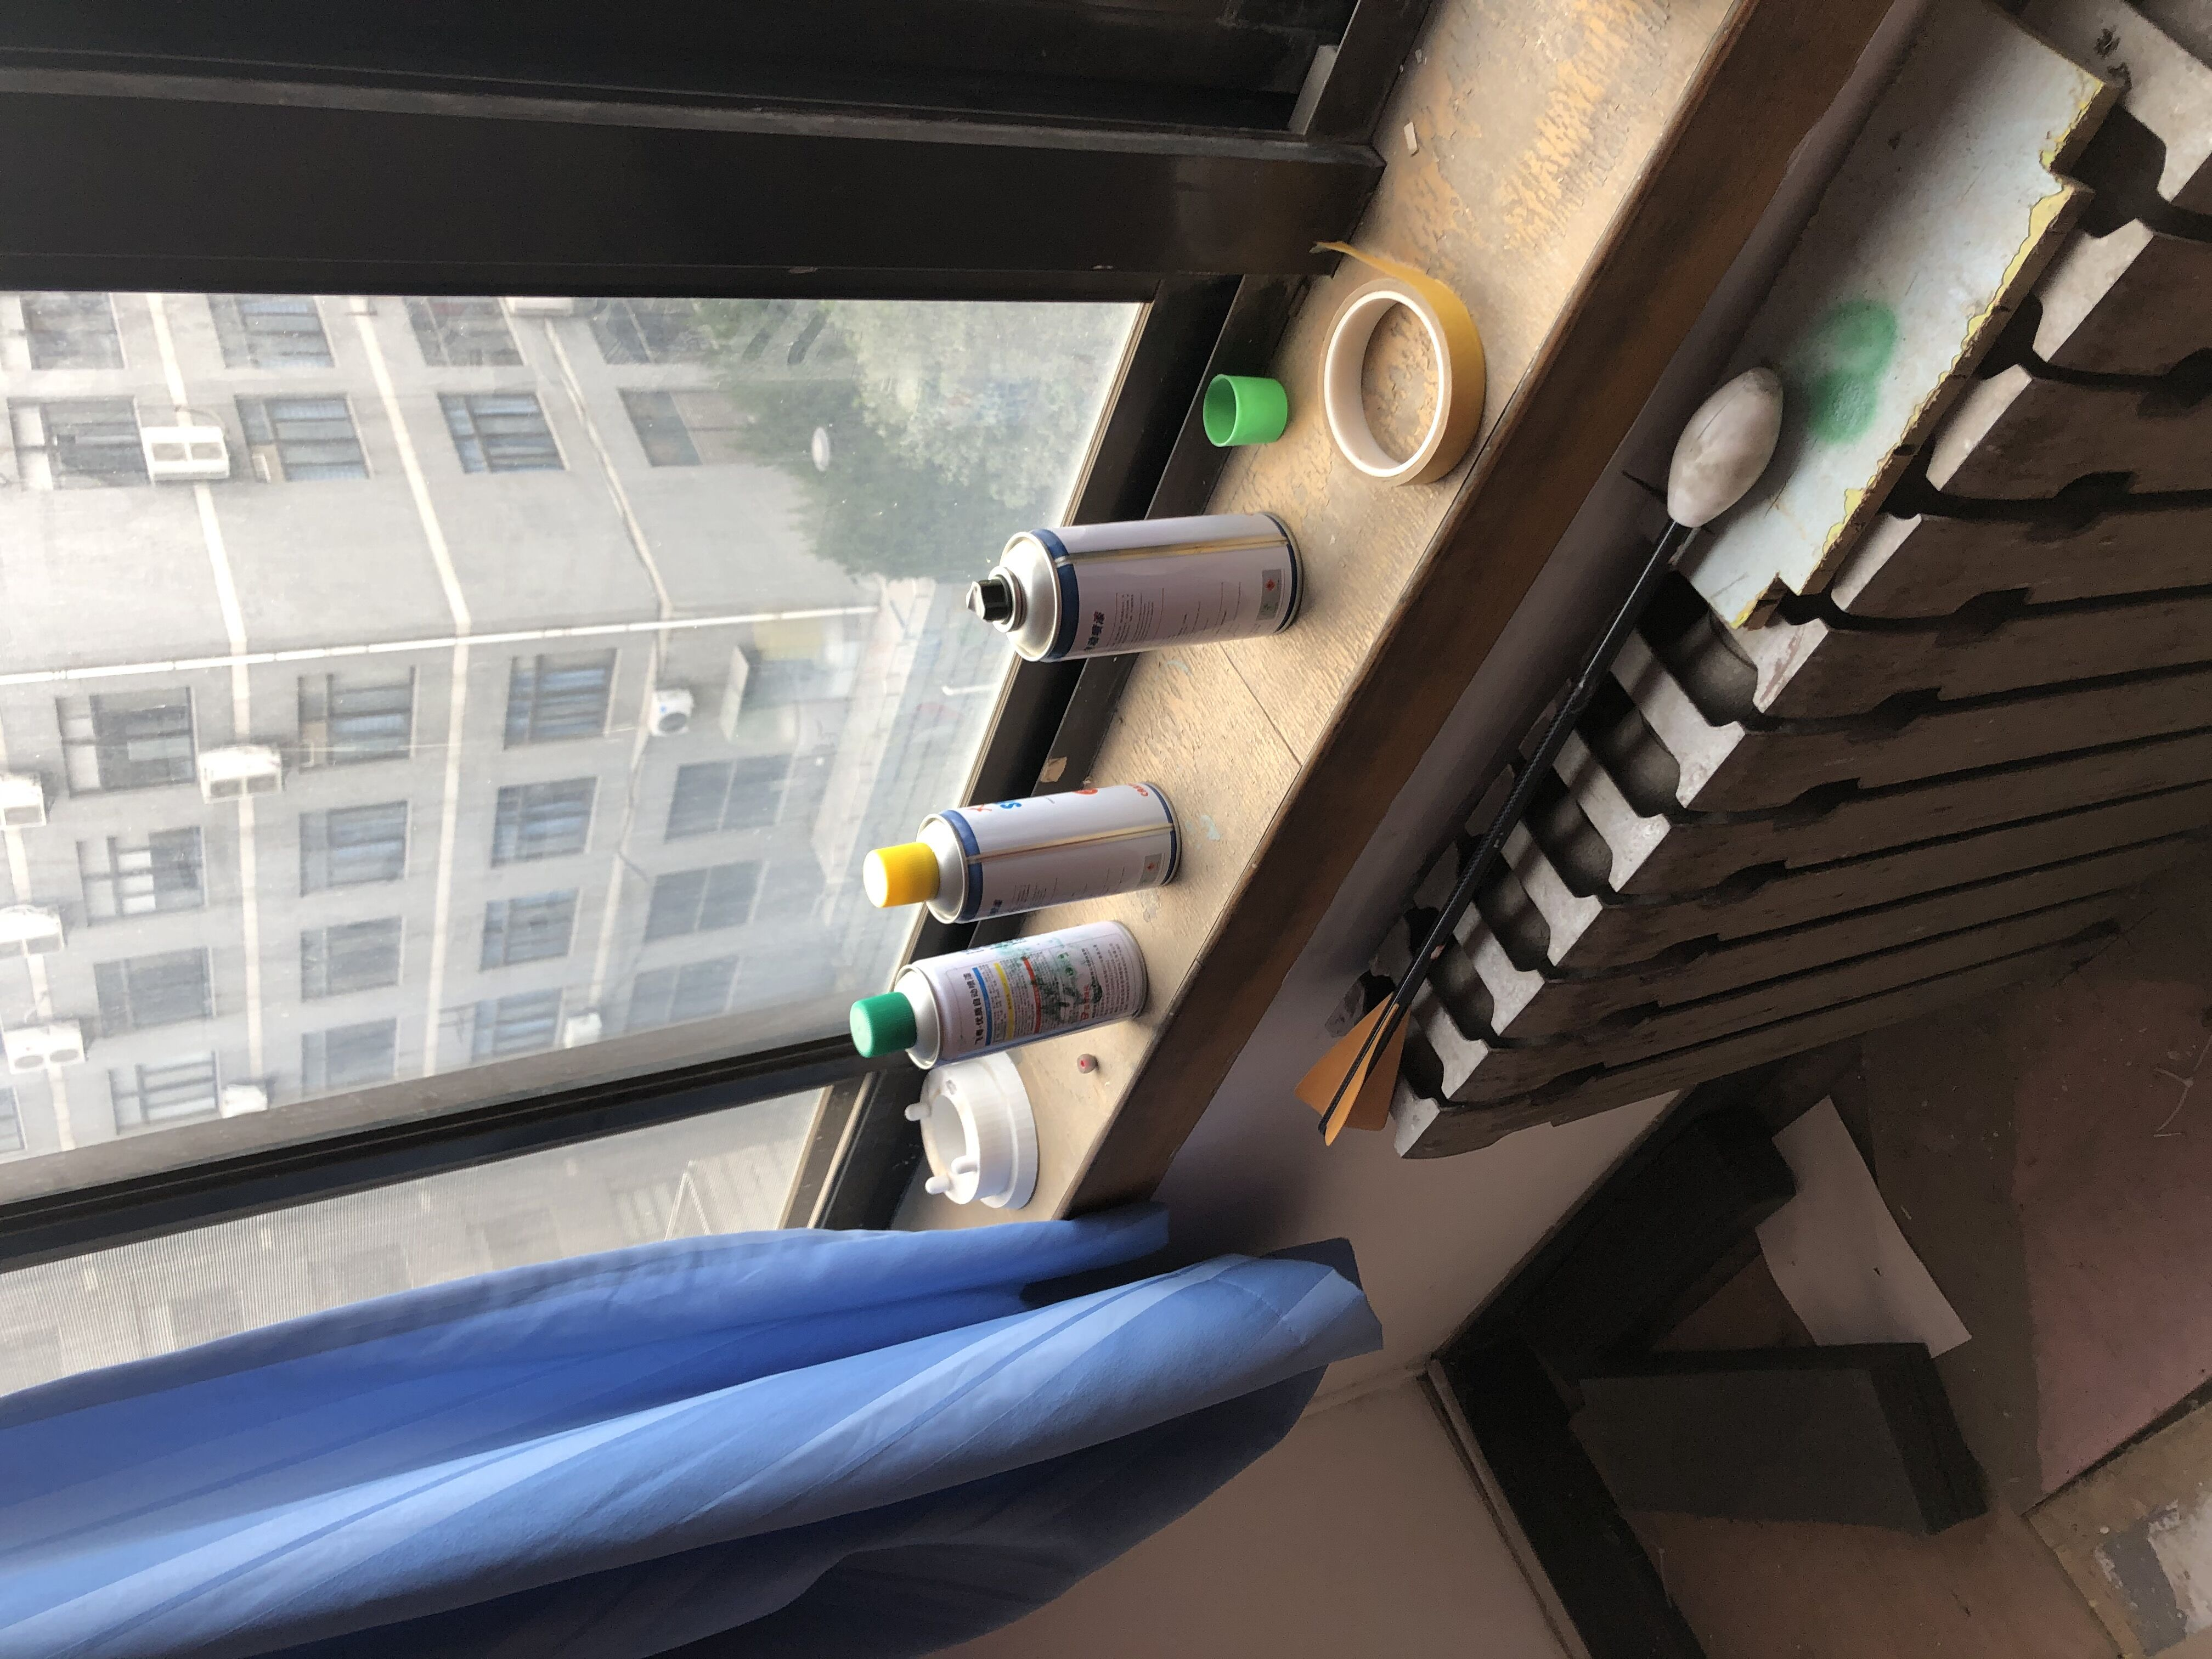arrow: (1287, 364, 1789, 1143)
arrowFront: (1663, 361, 1785, 530)
